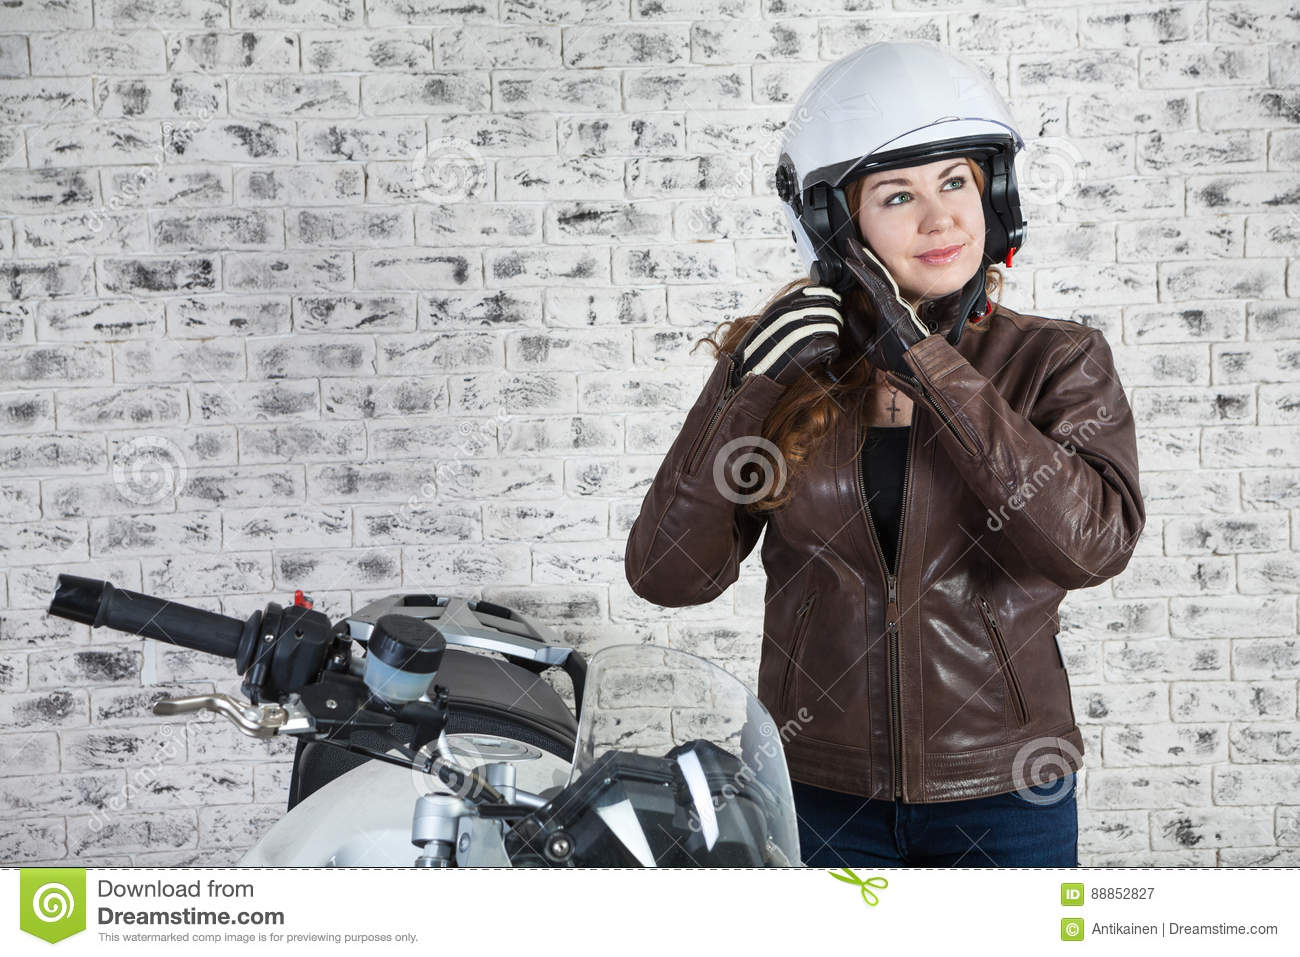helmet: (762, 29, 1045, 291)
